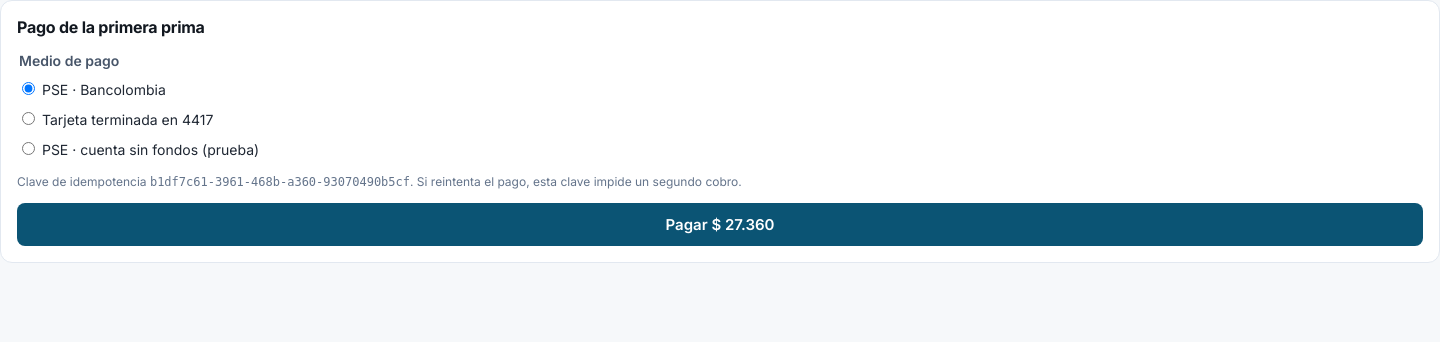
PaymentStepComponent (HU-WEB-06) › si el banco rechaza muestra el motivo; otro medio de pago usa otra clave y limpia el aviso
Click the radio button labelled "PSE · cuenta sin fondos (prueba)": x=28, y=148 [22,142,35,155]
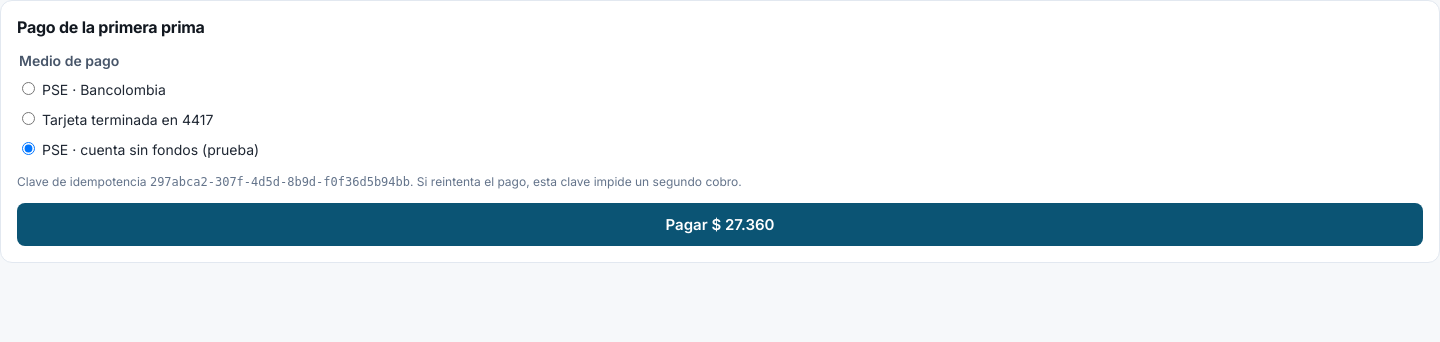
Click the button "Pagar $ 27.360": x=720, y=225 [17,203,1423,246]
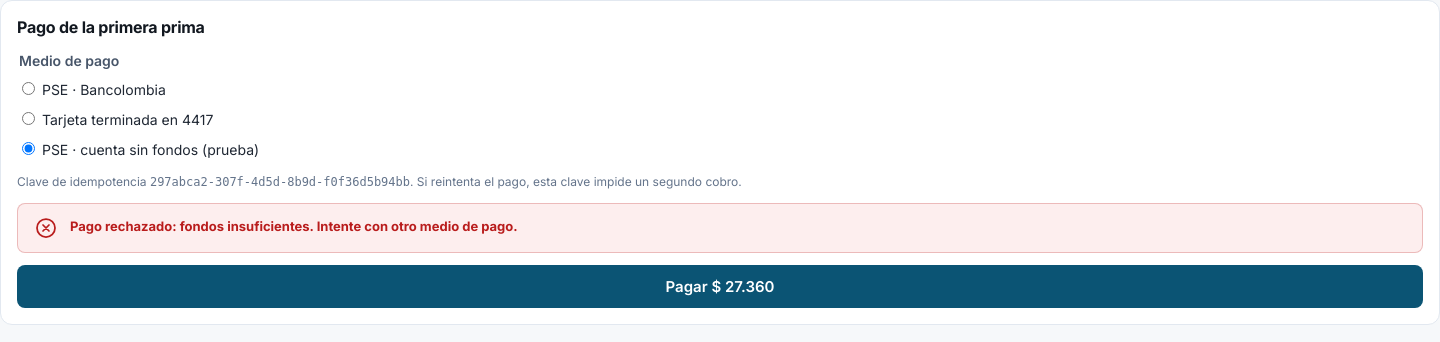
Expected: the button "Pagar $ 27.360" is enabled, [17,265,1423,308]
Click the radio button labelled "Tarjeta terminada en 4417": x=28, y=119 [22,112,35,125]
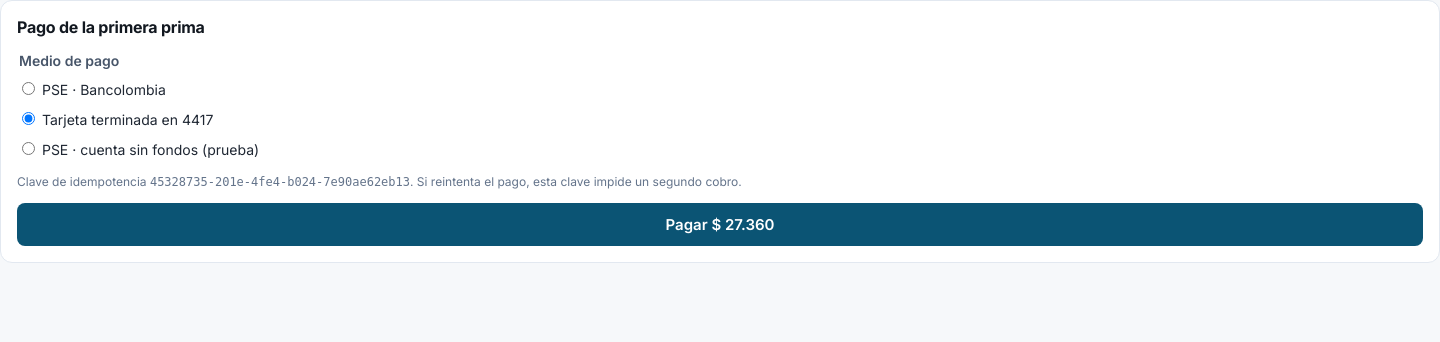
Result: the message "Pago rechazado: fondos insuficientes. Intente con otro medio de pago." is gone
